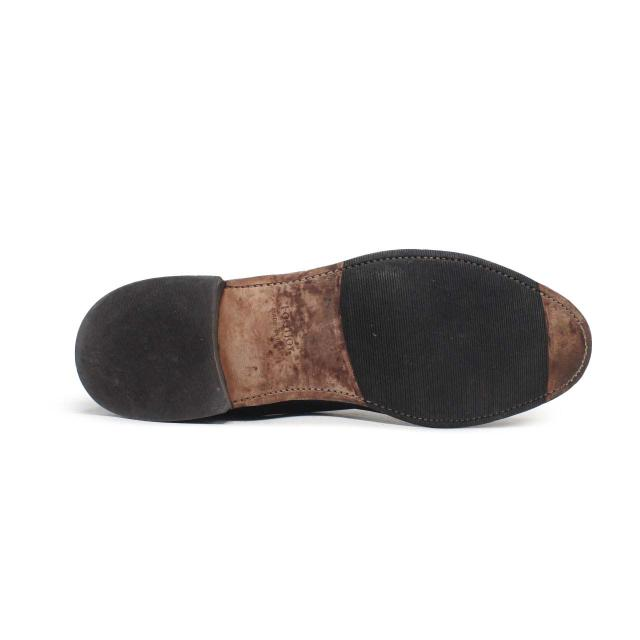outersole: (73, 251, 592, 432)
